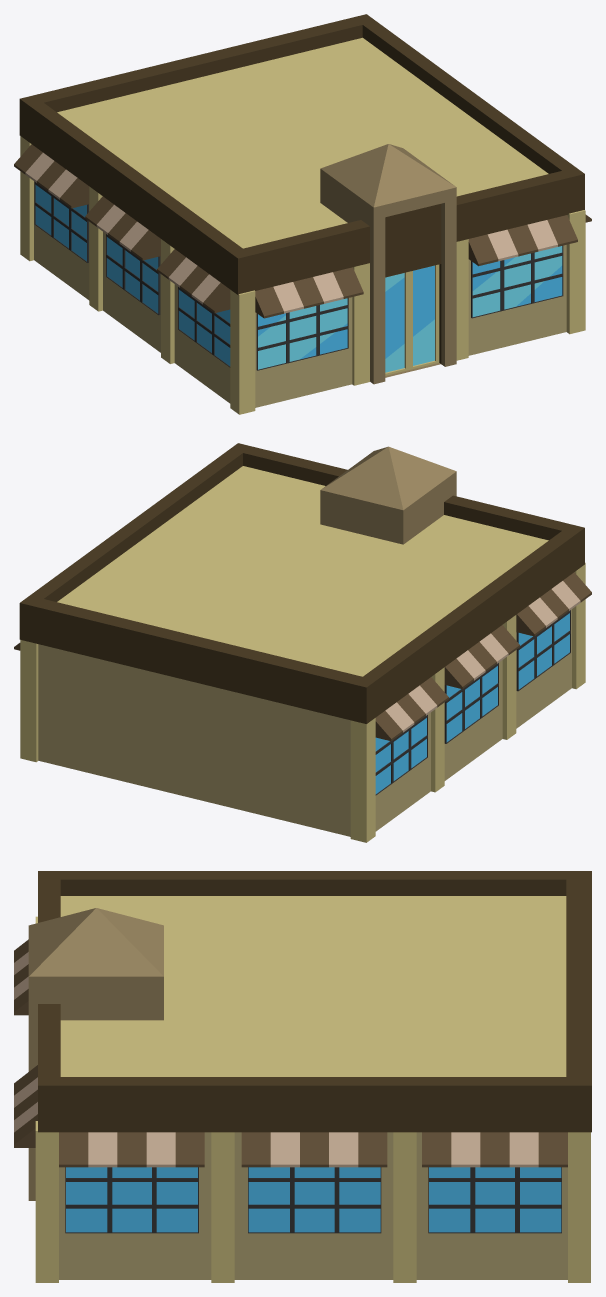
File: Env_CommercialBuilding_02.fbx
The picture shows the model from 3 angles, top to bottom: view 1: azimuth 30°, elevation 25°; view 2: azimuth 150°, elevation 25°; view 3: azimuth 270°, elevation 25°; orthographic projection. The views are drawn at different scales.
Parts seen in each view (by area): view 1: Env_CommercialBuilding_02; view 2: Env_CommercialBuilding_02; view 3: Env_CommercialBuilding_02.
Boxes of the visible parts, <box> form: Env_CommercialBuilding_02: <box>14,14,591,414</box>; Env_CommercialBuilding_02: <box>14,443,591,842</box>; Env_CommercialBuilding_02: <box>14,871,591,1282</box>.
Bounding box in the file's own units: 1278 × 684 × 1337.
Materials: 1 (1 with a texture image).
